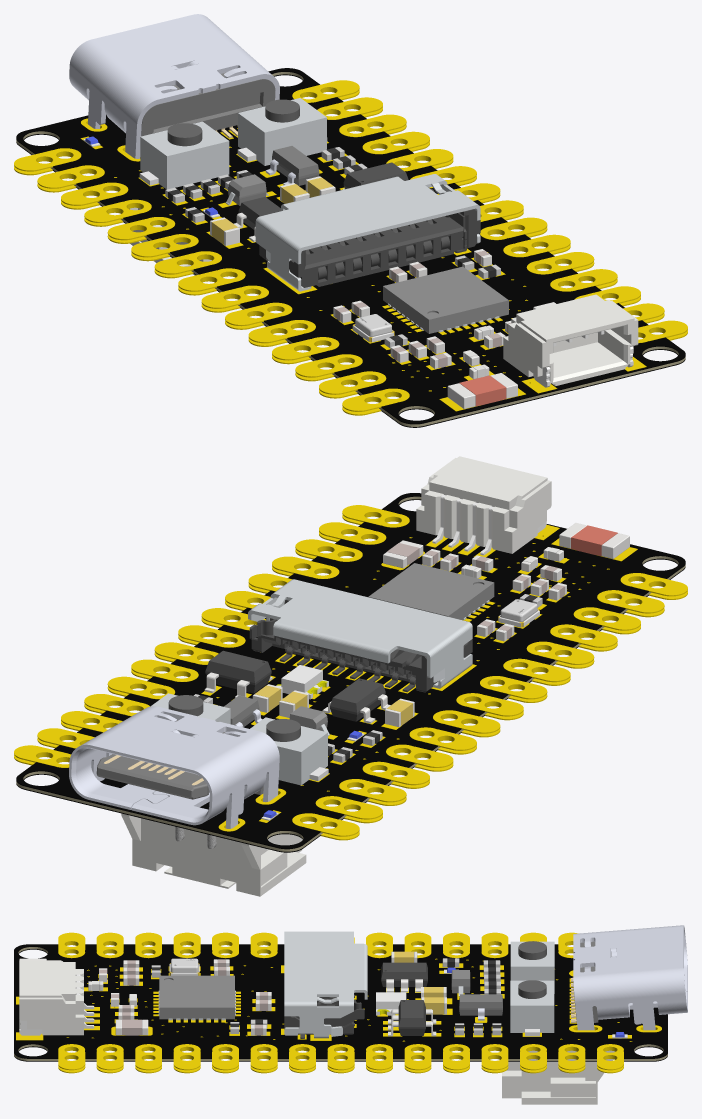
File: ue0061_unit_pulsar_v6_v1_7_v1.glb
The picture shows the model from 3 angles, top to bottom: view 1: azimuth 30°, elevation 25°; view 2: azimuth 150°, elevation 25°; view 3: azimuth 270°, elevation 25°; orthographic projection. The views are drawn at different scales.
Parts seen in each view (by area): view 1: Node22, Node3, Node10, Node25, Node23, Node7, Node9, Node24, Node1, Node2, Node26, Node6 (+9 smaller); view 2: Node22, Node3, Node23, Node25, Node10, Node7, Node26, Node9, Node1, Node2, Node24, Node6 (+8 smaller); view 3: Node22, Node3, Node10, Node25, Node23, Node9, Node1, Node7, Node2, Node26, Node6, Node12 (+10 smaller).
Part boxes in pixels (x1,y1,x2,y2): Node22: (16,68,685,427); Node3: (14,80,687,411); Node10: (140,98,499,332); Node25: (69,14,295,185); Node23: (129,207,638,386); Node7: (238,162,480,287); Node9: (228,174,508,333); Node24: (141,72,319,185); Node1: (37,90,687,400); Node2: (14,87,687,401); Node26: (210,176,555,408); Node6: (14,91,687,415); Node22: (16,493,685,852); Node3: (14,505,687,836); Node23: (121,456,551,896); Node25: (69,706,279,828); Node10: (151,579,489,785); Node7: (205,600,472,721); Node26: (204,523,629,727); Node9: (289,563,494,730); Node1: (14,514,576,822); Node2: (14,512,665,836); Node24: (96,695,263,799); Node6: (14,516,687,840); Node22: (14,944,667,1061); Node3: (58,932,661,1070); Node10: (158,931,554,1038); Node25: (478,925,687,1030); Node23: (19,960,615,1104); Node9: (159,970,470,1019); Node1: (16,944,631,1072); Node7: (284,962,427,1038); Node2: (58,941,657,1070); Node26: (19,951,446,1036); Node6: (58,944,623,1073); Node12: (99,959,267,1035).
Bounding box in the file's own units: 21.34 × 9.65 × 44.49.
